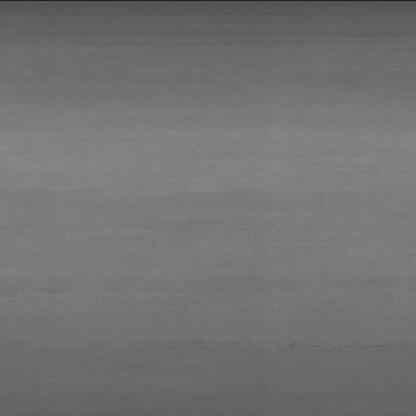silk_spot: (73, 336, 376, 376)
